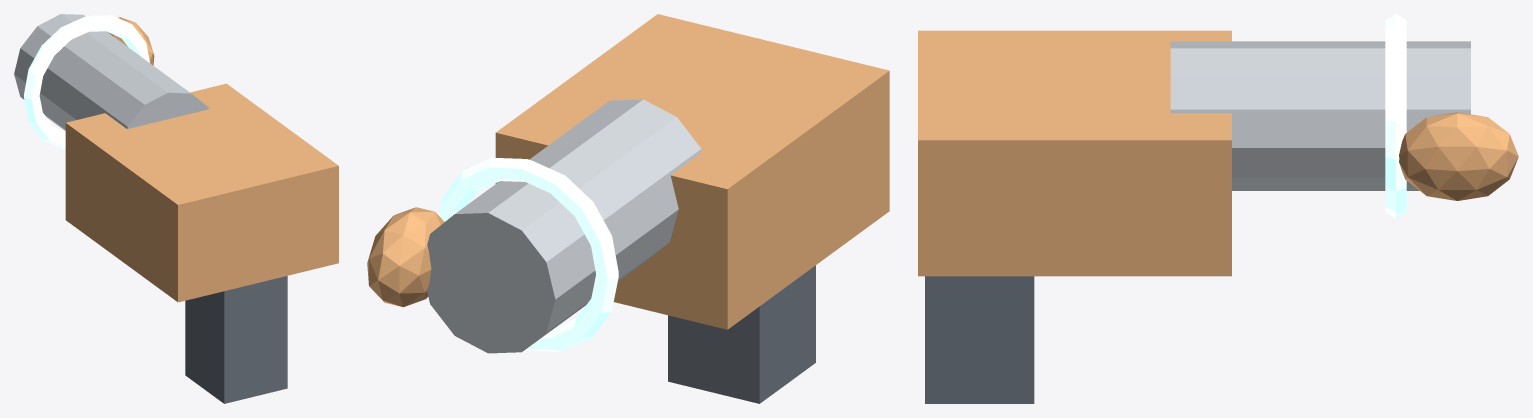
The model's file is pistola_2.glb.
3 renders of one model, left to right at view 1: azimuth 30°, elevation 25°; view 2: azimuth 150°, elevation 25°; view 3: azimuth 270°, elevation 25°, orthographic. The views are drawn at different scales.
Visible parts, largest first — view 1: cuerpo, cañon, empuñadura, bobina, punta; view 2: cuerpo, cañon, empuñadura, bobina, punta; view 3: cuerpo, cañon, empuñadura, punta, bobina.
Boxes of the visible parts, <box> form: cuerpo: <box>65,83,338,302</box>; cañon: <box>14,14,208,130</box>; empuñadura: <box>185,276,287,403</box>; bobina: <box>24,15,149,149</box>; punta: <box>108,17,154,65</box>; cuerpo: <box>495,14,889,329</box>; cañon: <box>427,99,702,353</box>; empuñadura: <box>668,265,815,403</box>; bobina: <box>439,157,618,351</box>; punta: <box>367,207,444,307</box>; cuerpo: <box>918,30,1231,276</box>; cañon: <box>1170,41,1470,190</box>; empuñadura: <box>925,276,1034,403</box>; punta: <box>1399,112,1518,200</box>; bobina: <box>1385,14,1406,218</box>.
Bounding box in the file's own units: 0.3886 × 0.5932 × 0.9.
